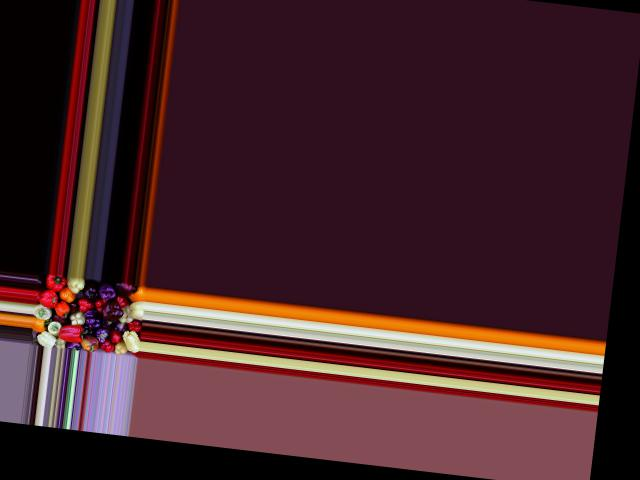bell_pepper: (33, 304, 54, 319)
